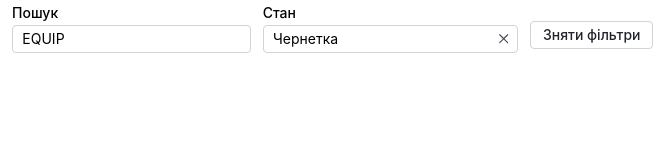
it: «Clear filters» зʼявляється сам — і лише коли є що чистити › кнопка чистить ОБИДВА параметри за ОДИН перехід і зникає
Click the button "Зняти фільтри": [592, 35] box left=530, top=21, right=654, bottom=49
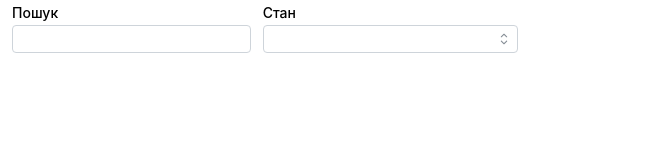
Check: the button "Зняти фільтри" is gone
